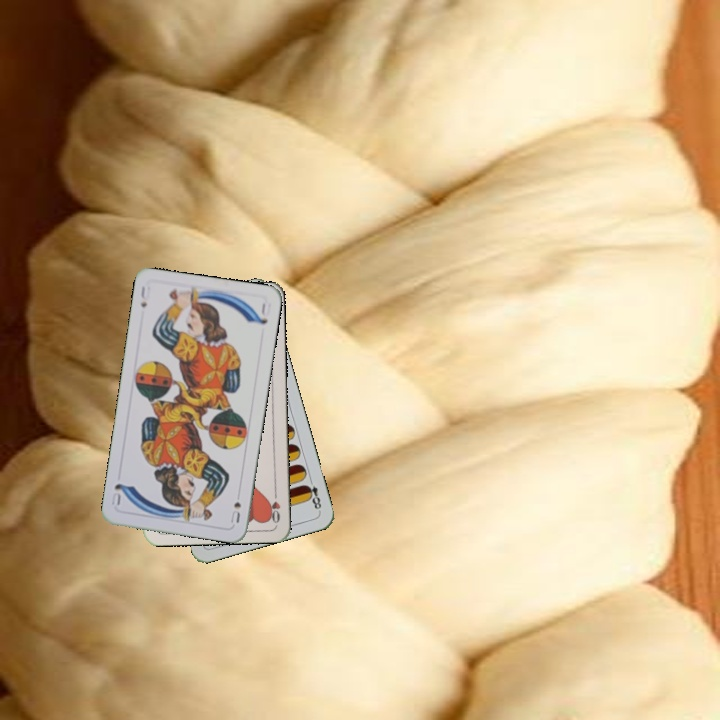E8: (301, 474, 324, 514)
HO: (266, 486, 283, 525)
SU: (227, 498, 243, 525), (136, 282, 150, 310)
